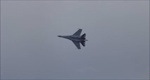maybay_muctieu: (58, 28, 88, 48)
